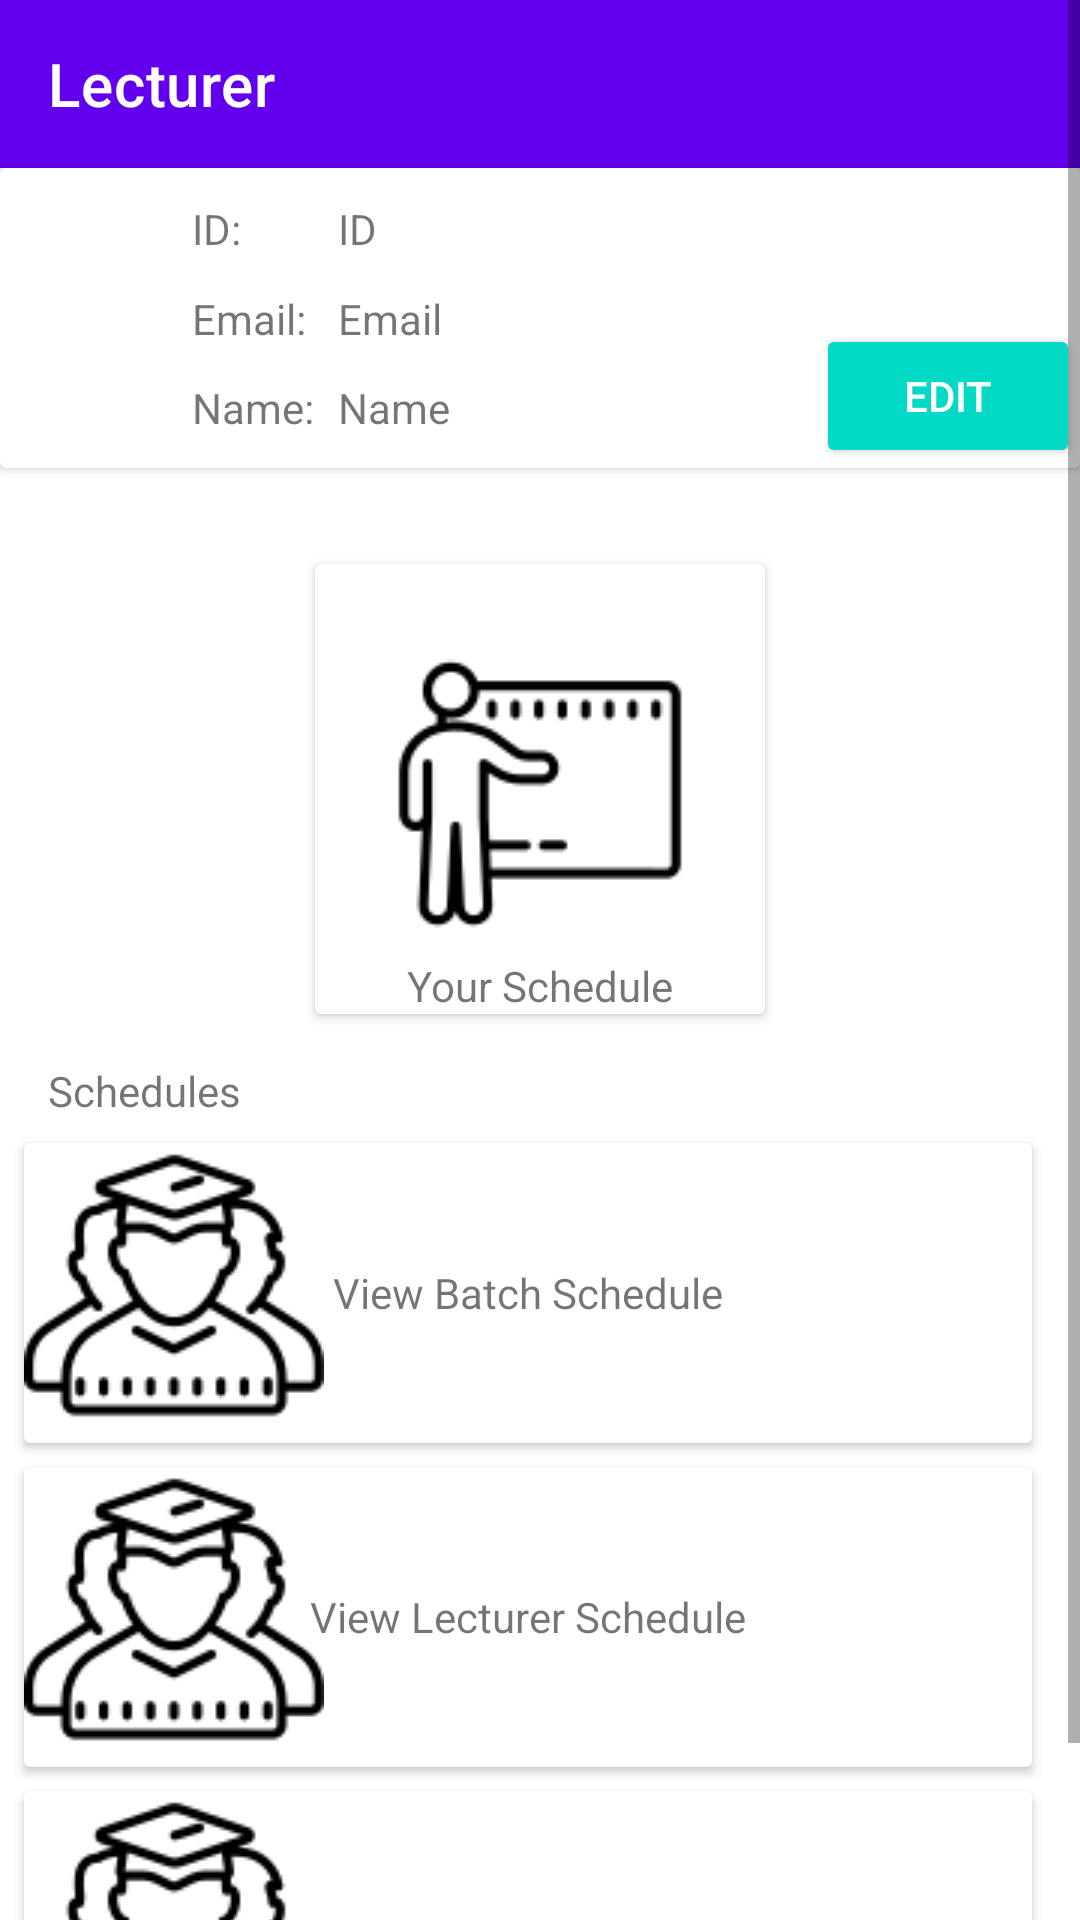

Where to tap for icons on this 1080 x 1920 app screen, as (x=x, y=y):
lecturer: (x=540, y=794)
